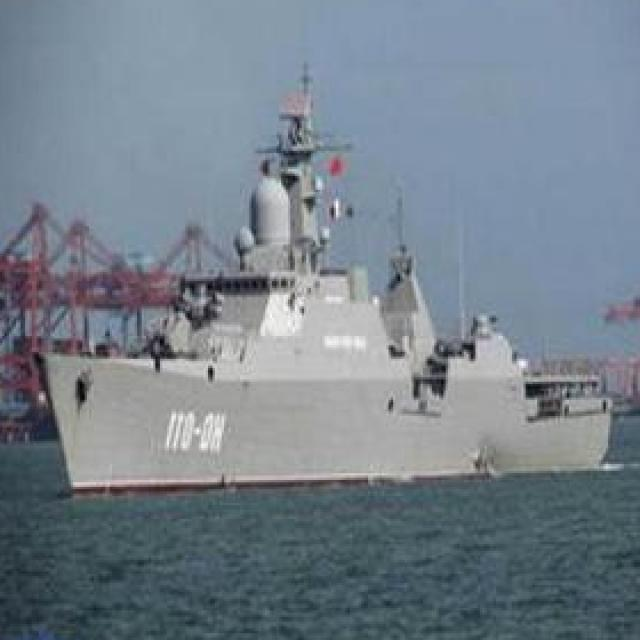navalvessels: (36, 121, 620, 496)
